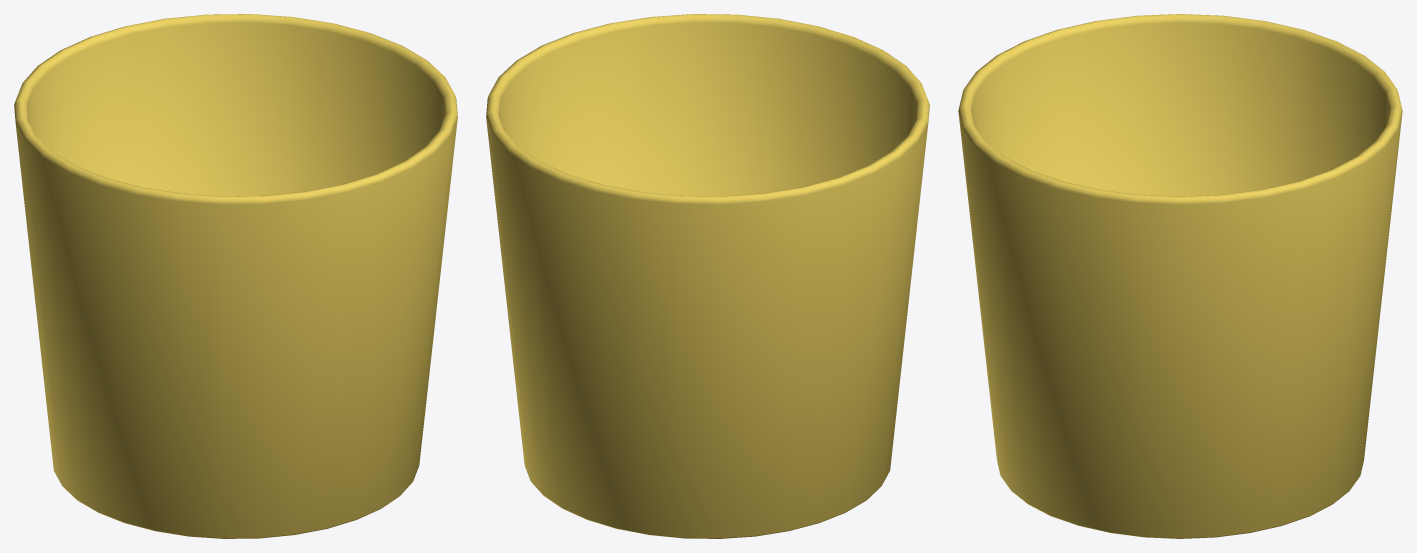
The model's file is 31 - SOJABÖNA Plant pot - light yellow 15 cm.glb.
3 renders of one model, left to right at view 1: azimuth 30°, elevation 25°; view 2: azimuth 150°, elevation 25°; view 3: azimuth 270°, elevation 25°, orthographic.
Parts seen in each view (by area): view 1: Circle; view 2: Circle; view 3: Circle.
Boxes of the visible parts, left/top/right/bottom form: Circle: left=14, top=14, right=457, bottom=538; Circle: left=486, top=14, right=929, bottom=538; Circle: left=958, top=14, right=1402, bottom=538.
Size of the model in its own units: 0.1696 by 0.15 by 0.1696.
